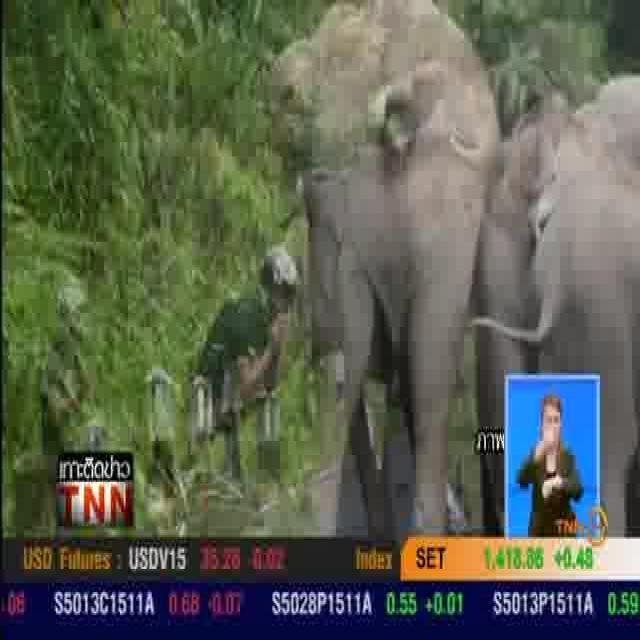Elephant: (301, 39, 460, 316), (508, 144, 640, 359)
